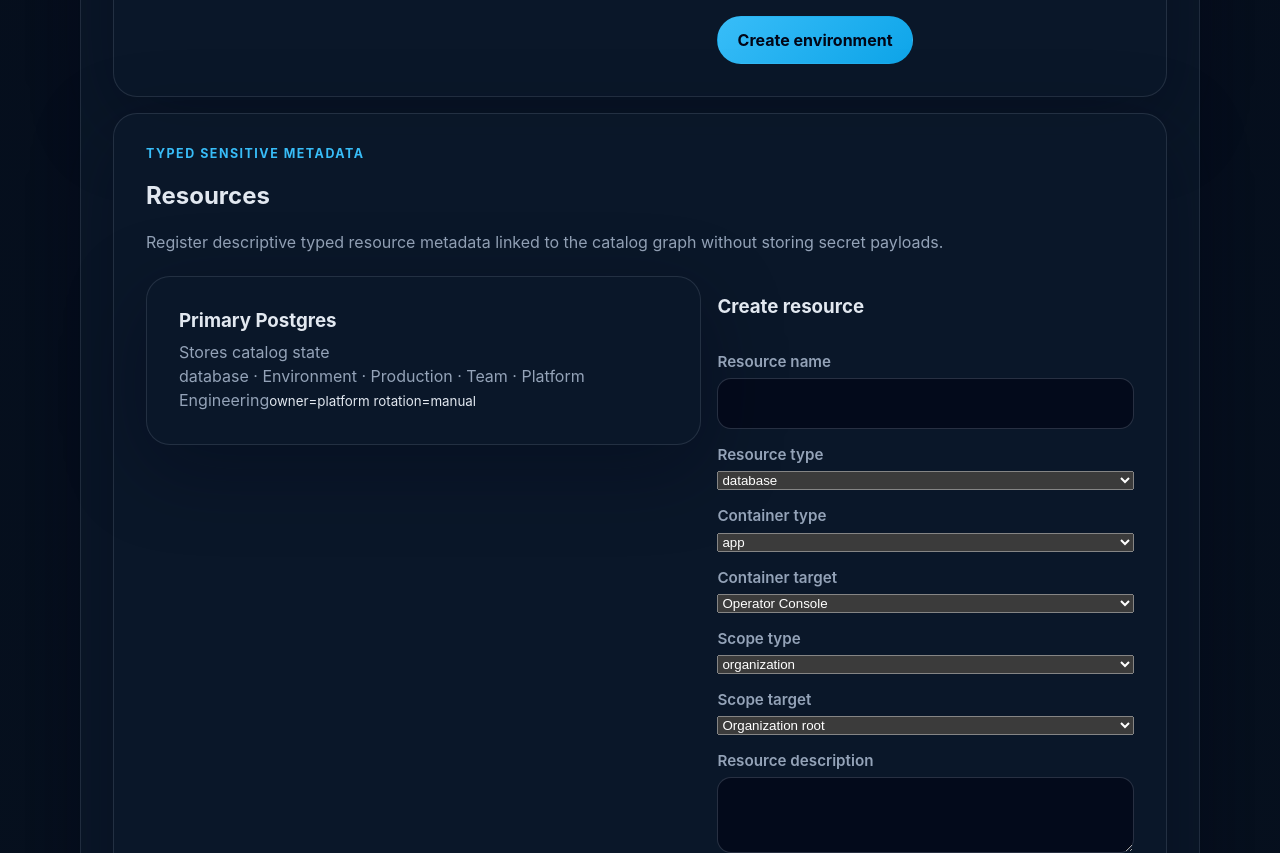
it: catalog workspace › surfaces resource scope mismatch failures in-place
(page scrolled)
Expected: the heading "Primary Postgres" is shown, [179,309,337,332]
Step 1. Type "Broken Resource" into the field labelled "Resource name" → [926, 404], box [717,378,1134,429]
(page scrolled)
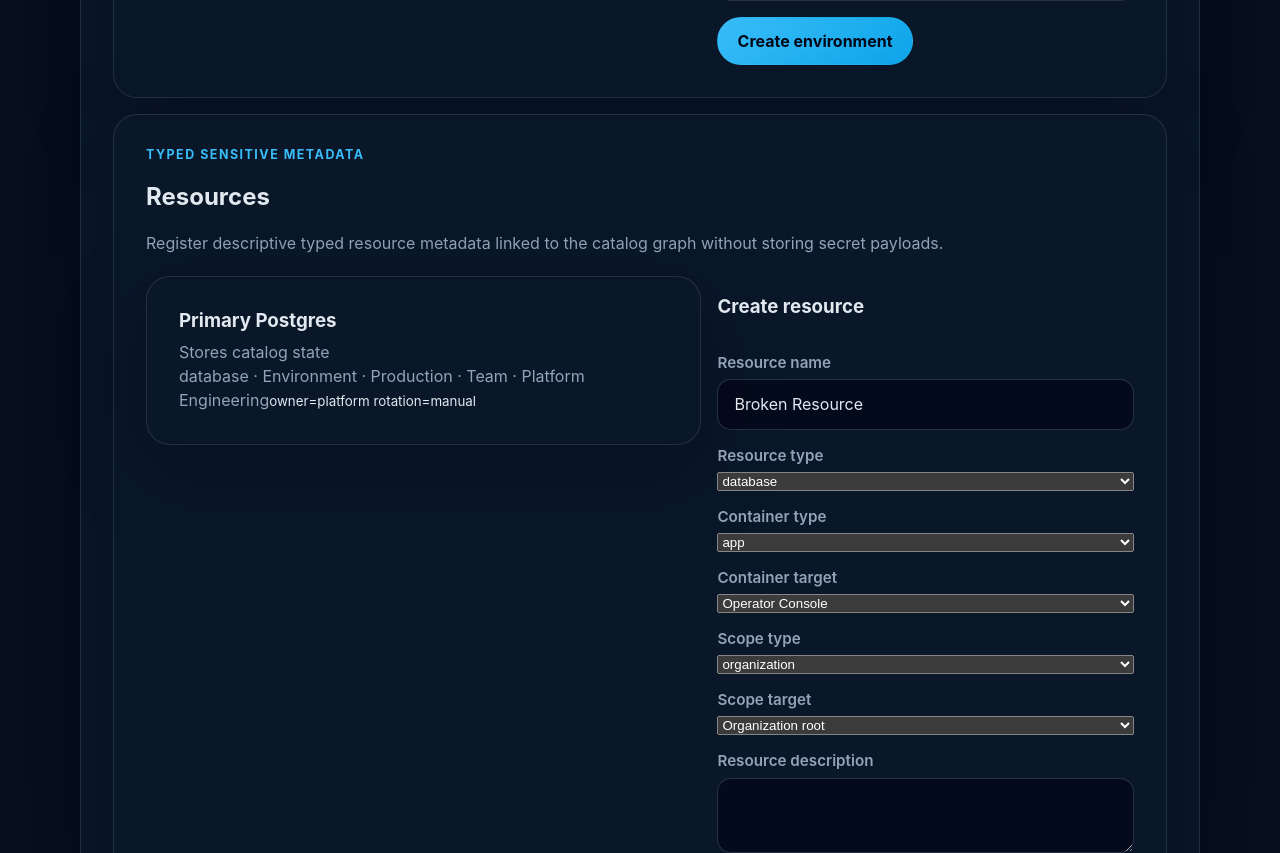
Step 2. Select "team" in the dropdown labelled "Scope type" → [926, 665], box [717,655,1134,674]
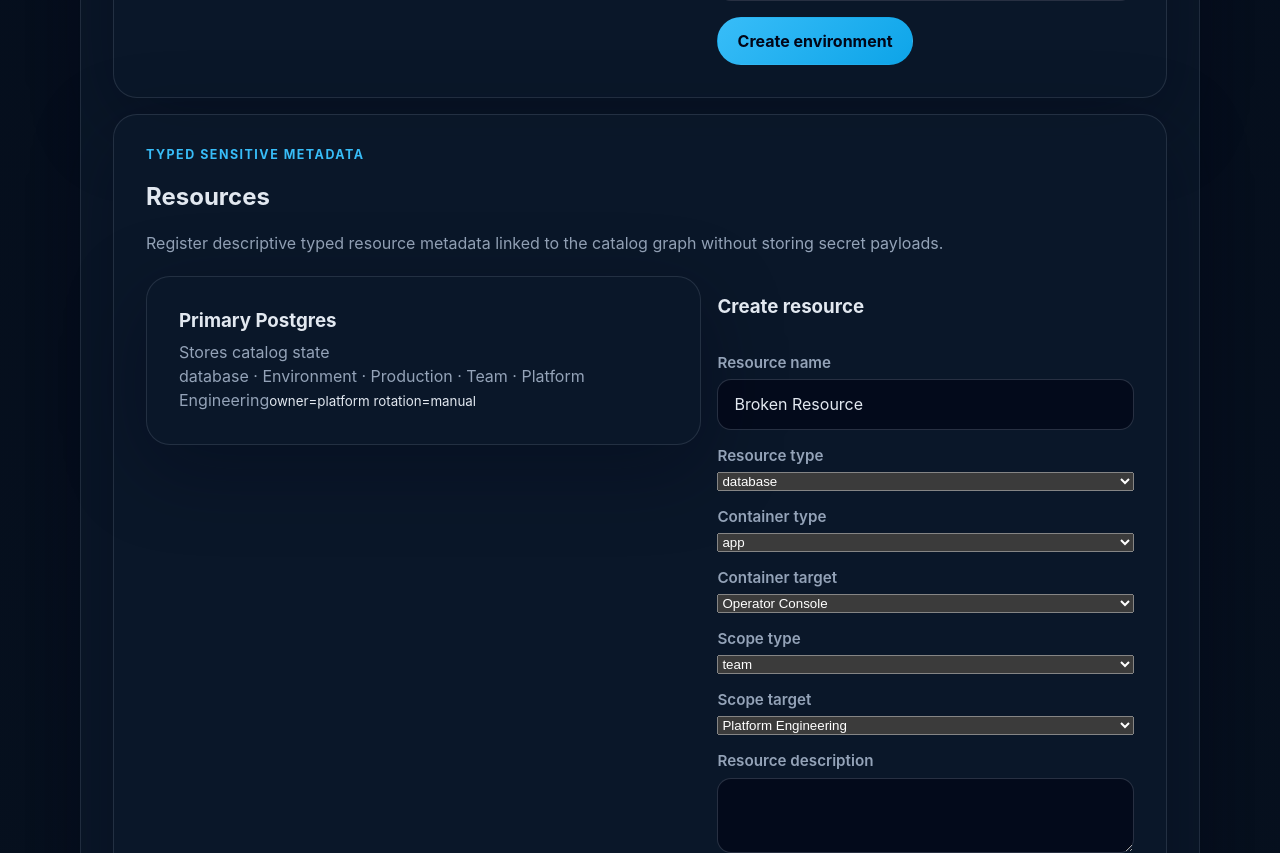
Step 3. Select "Platform Engineering" in the dropdown labelled "Scope target" → [926, 726], box [717,716,1134,736]
(page scrolled)
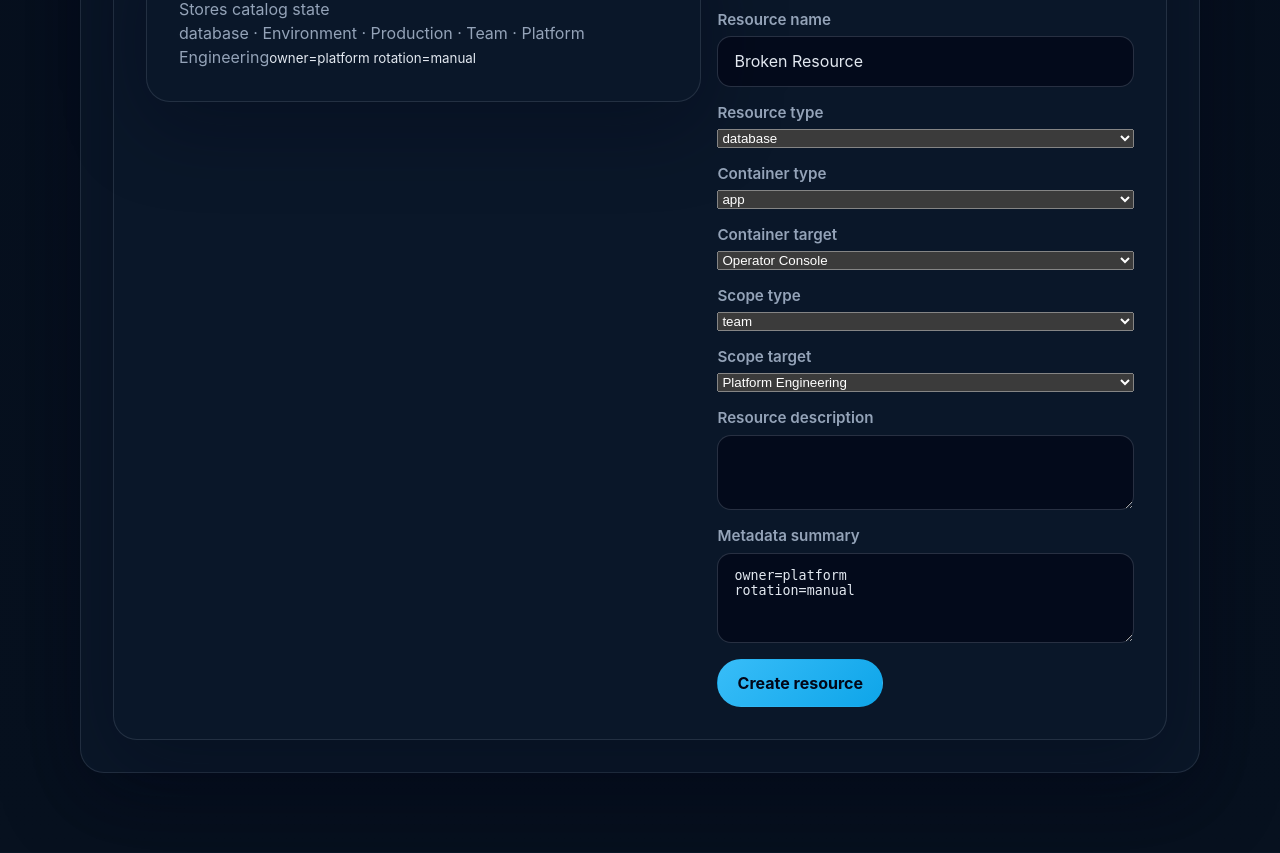
Step 4. Click the button "Create resource" → [800, 683], box [717,659,883,707]
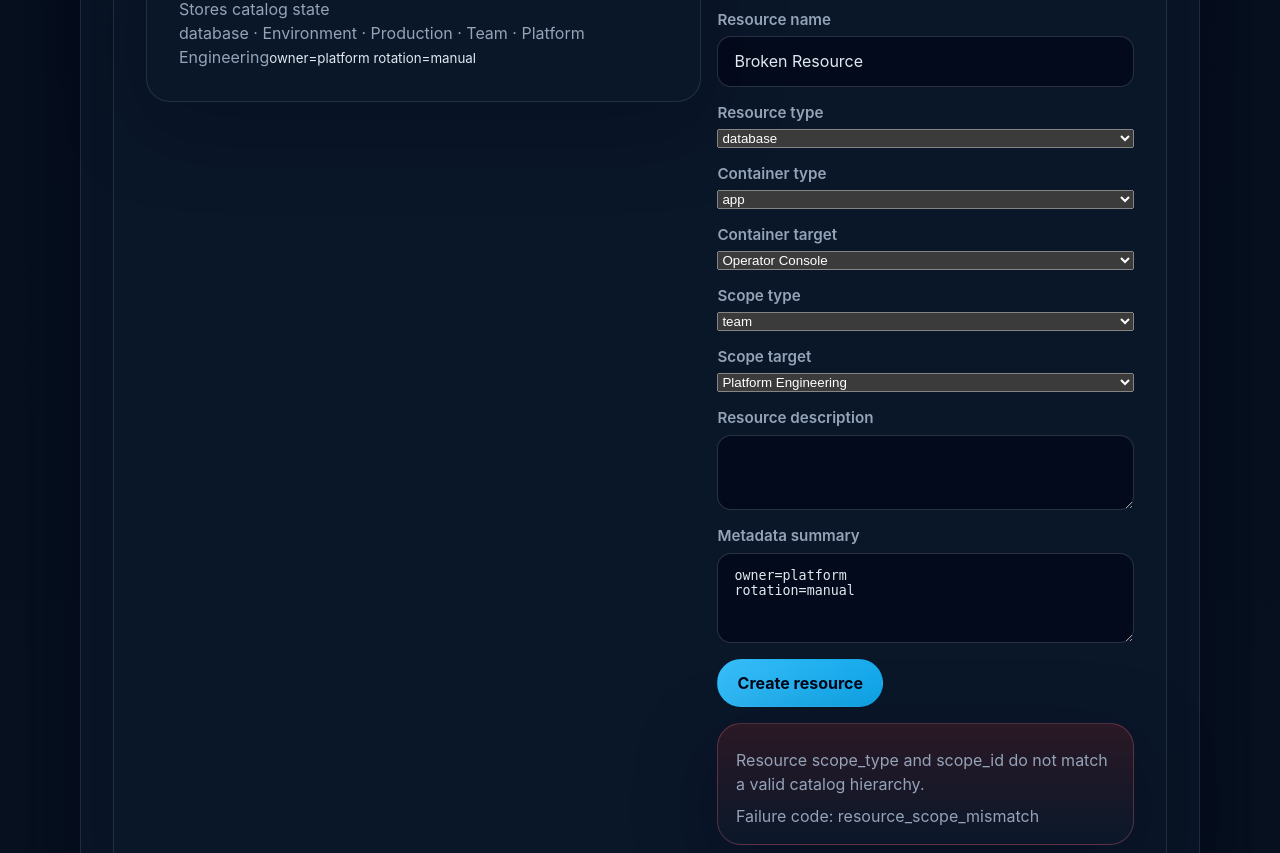
Expected: the text "Resource scope_type and scope_id do not match a valid catalog hierarchy." is shown, [736,748,1115,796]
Expected: the text "Failure code: resource_scope_mismatch" is shown, [736,806,1039,826]
